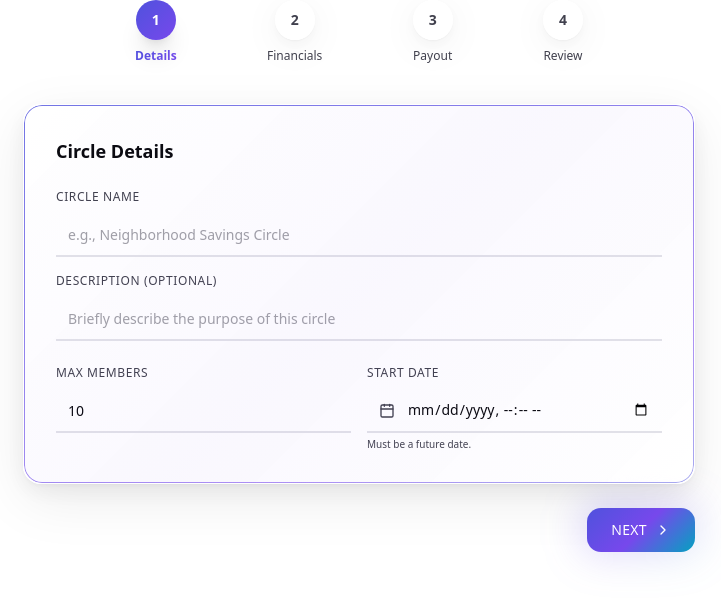
Test: CircleCreateForm — step 1 validation › shows error when name is too short
# Click Next without filling the name — should show validation error
Click the button "Next" at x=641, y=530, box [587,508,695,552]
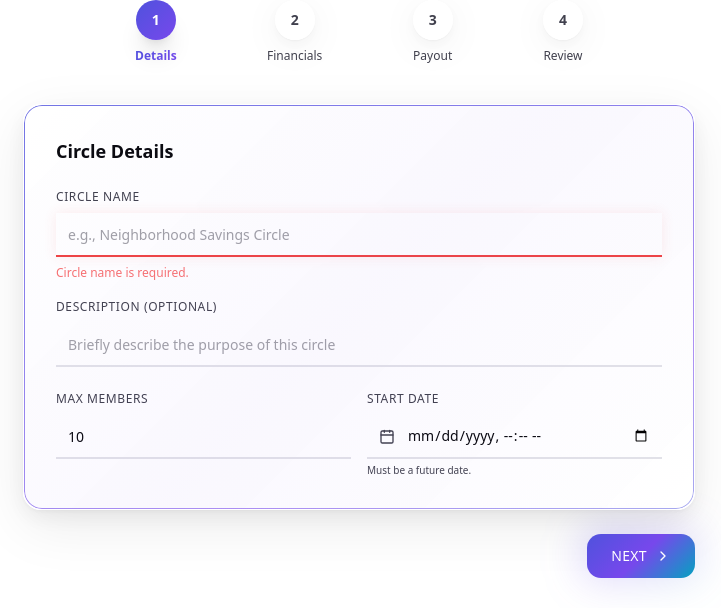
Result: the text "Circle name is required." is shown at [56,264,189,281]
